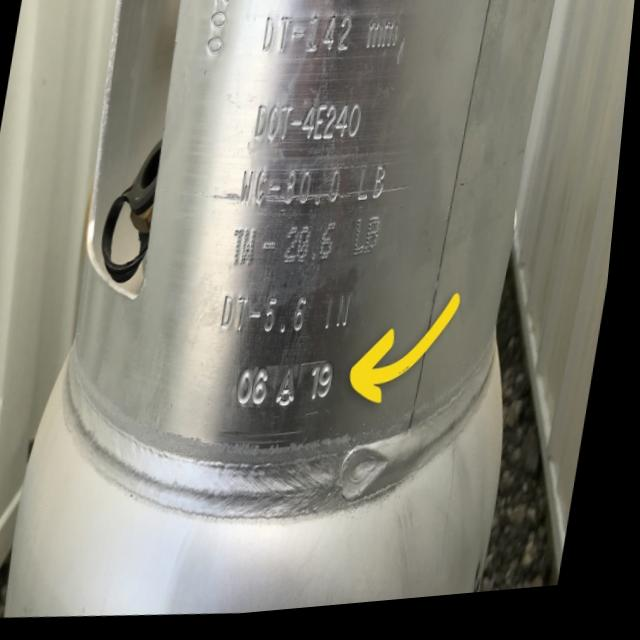ocr: (249, 95, 372, 162), (256, 5, 358, 85), (241, 156, 351, 225), (238, 357, 346, 426), (285, 222, 345, 283), (364, 15, 404, 77), (268, 298, 316, 345), (354, 215, 390, 277), (222, 292, 258, 350), (234, 225, 266, 286), (359, 164, 395, 216), (330, 291, 363, 346), (264, 235, 285, 269), (252, 306, 270, 337)
